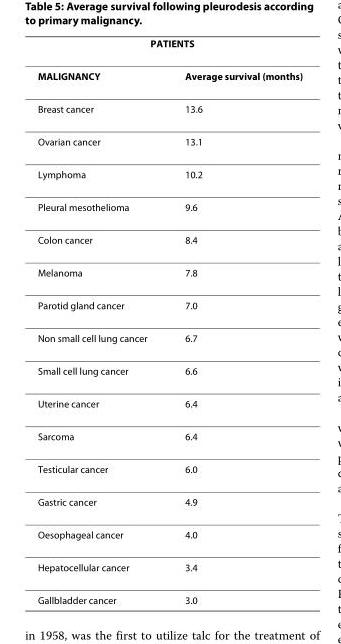table: (36, 36, 302, 605)
table column: (165, 36, 302, 605), (36, 36, 165, 605)
table column header: (36, 36, 302, 91)
table row: (36, 58, 302, 91), (36, 91, 302, 124), (36, 124, 302, 157), (36, 157, 302, 190), (36, 222, 302, 255), (36, 255, 302, 288), (36, 288, 302, 321), (36, 353, 302, 386), (36, 386, 302, 419), (36, 419, 302, 452), (36, 484, 302, 517), (36, 517, 302, 550), (36, 550, 302, 583), (36, 190, 302, 222), (36, 321, 302, 353), (36, 452, 302, 484), (36, 36, 302, 58), (36, 583, 302, 605)
table spanning cell: (36, 36, 302, 58)
